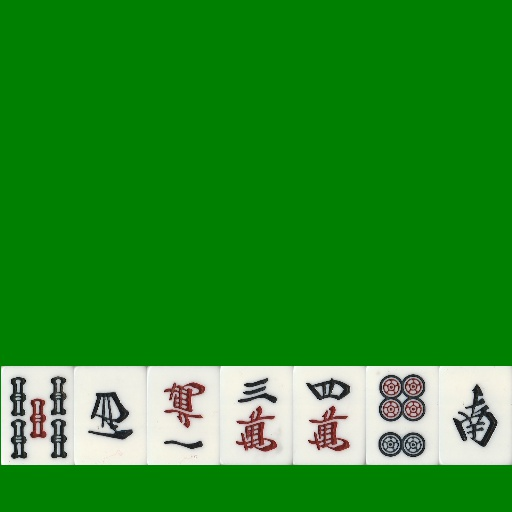1m: (147, 366, 220, 465)
3m: (220, 366, 293, 465)
4m: (293, 366, 366, 465)
5s: (1, 366, 74, 465)
6p: (366, 366, 439, 465)
south: (439, 366, 512, 465)
west: (74, 366, 147, 465)
